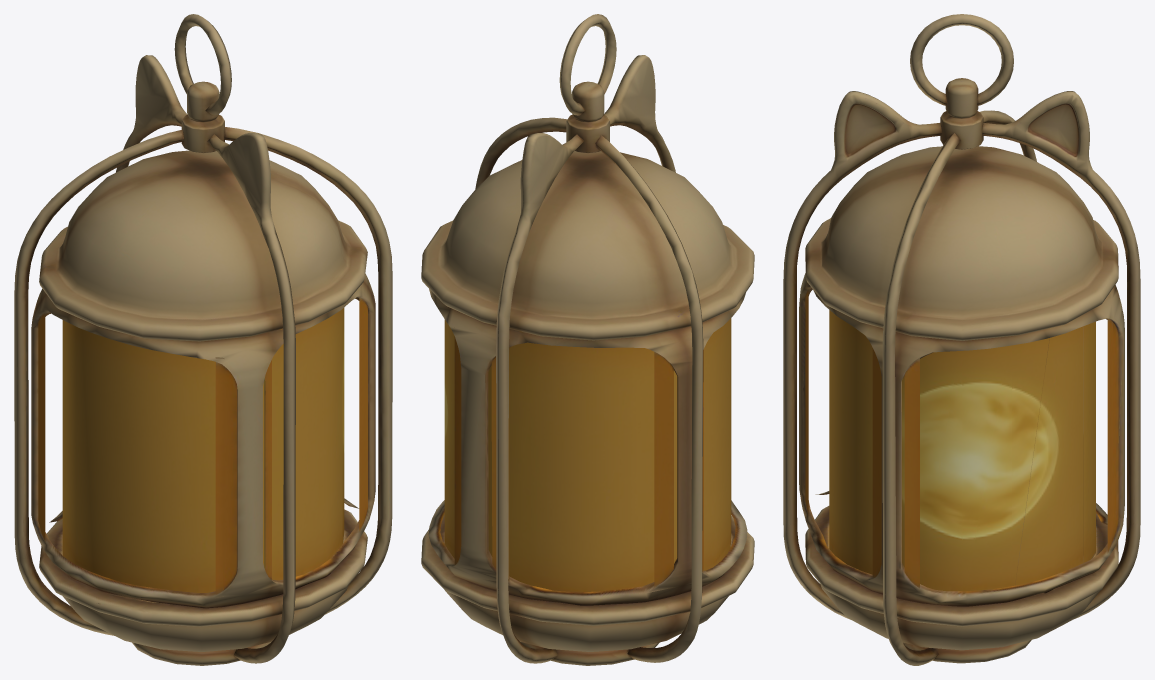
The model's file is archmage-sun-lamp.glb.
The picture shows the model from 3 angles, left to right: view 1: azimuth 30°, elevation 25°; view 2: azimuth 150°, elevation 25°; view 3: azimuth 270°, elevation 25°; orthographic projection.
Visible parts, largest first — view 1: tripo_node_40f8b92d-6a93-46c8-a529-d22c742a7203; view 2: tripo_node_40f8b92d-6a93-46c8-a529-d22c742a7203; view 3: tripo_node_40f8b92d-6a93-46c8-a529-d22c742a7203.
Part boxes in pixels (x1,y1,x2,y2): tripo_node_40f8b92d-6a93-46c8-a529-d22c742a7203: [14, 14, 392, 665]; tripo_node_40f8b92d-6a93-46c8-a529-d22c742a7203: [421, 14, 754, 665]; tripo_node_40f8b92d-6a93-46c8-a529-d22c742a7203: [783, 14, 1140, 665].
Bounding box in the file's own units: 0.5106 × 0.9995 × 0.52.
Materials: 1 (1 with a texture image).
